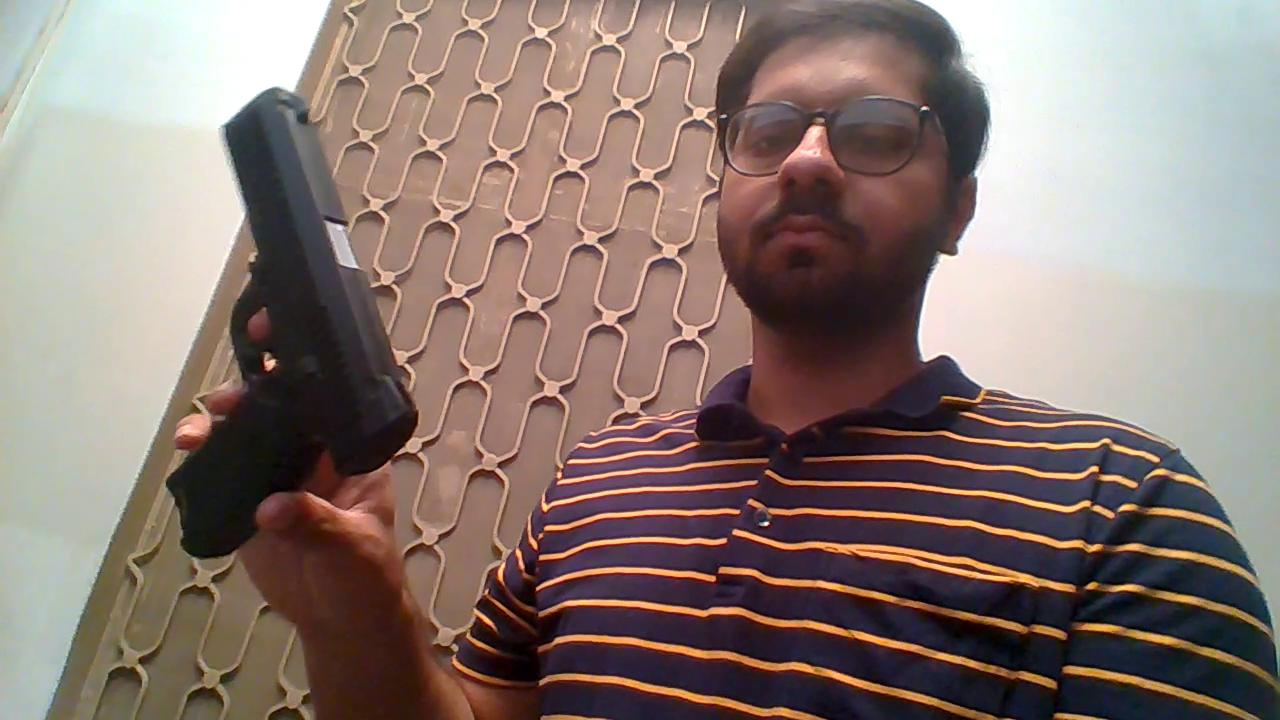criminal: (161, 0, 1280, 720)
weapon: (162, 85, 419, 563)
